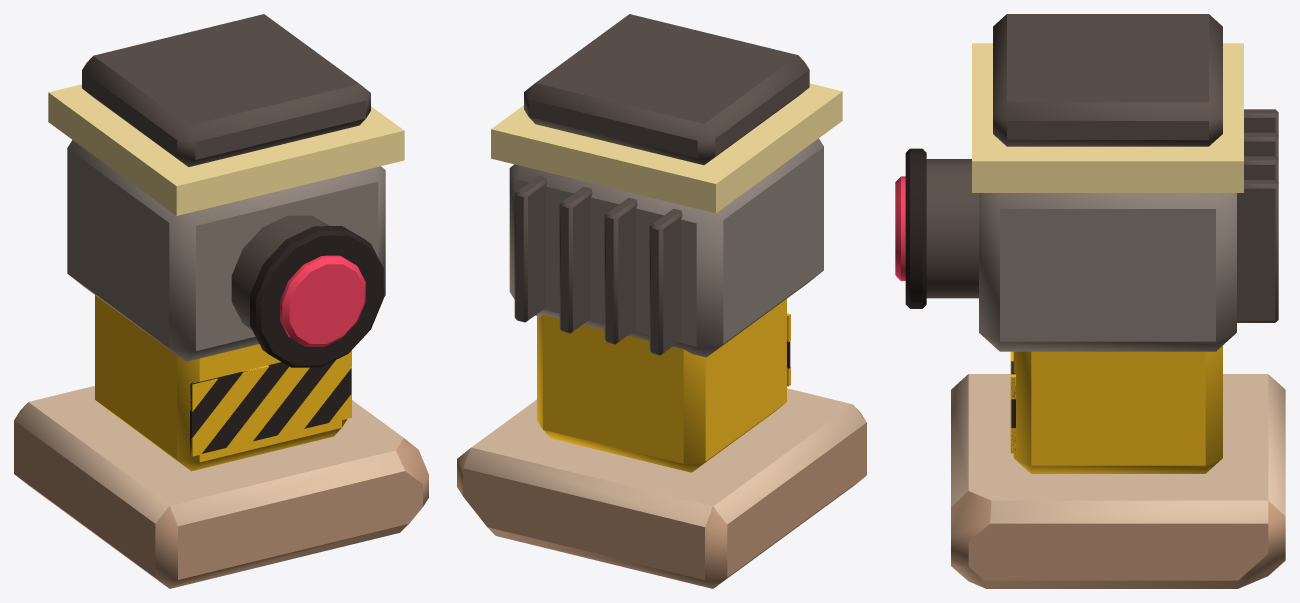
File: laser_emitter__upper.glb
The picture shows the model from 3 angles, left to right: view 1: azimuth 30°, elevation 25°; view 2: azimuth 150°, elevation 25°; view 3: azimuth 270°, elevation 25°; orthographic projection. The views are drawn at different scales.
Visible parts, largest first — view 1: Body, Lens; view 2: Body; view 3: Body, Lens.
Boxes of the visible parts, left/top/right/bottom form: Body: left=14, top=14, right=428, bottom=588; Lens: left=280, top=255, right=365, bottom=346; Body: left=457, top=14, right=866, bottom=588; Body: left=905, top=14, right=1285, bottom=588; Lens: left=895, top=176, right=905, bottom=280.
Bounding box in the file's own units: 0.48 × 0.74 × 0.56.
